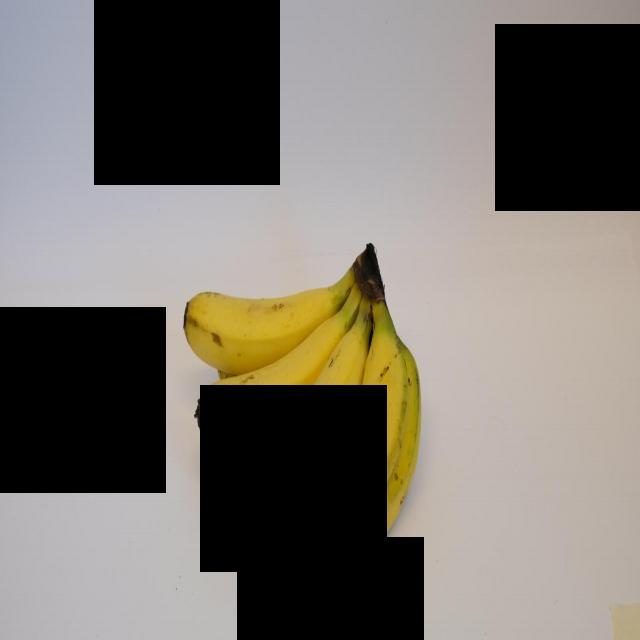banana: (306, 328, 406, 556), (190, 314, 350, 452), (242, 331, 366, 508), (173, 265, 345, 348)
